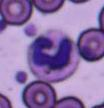N: (27, 30, 80, 82)
